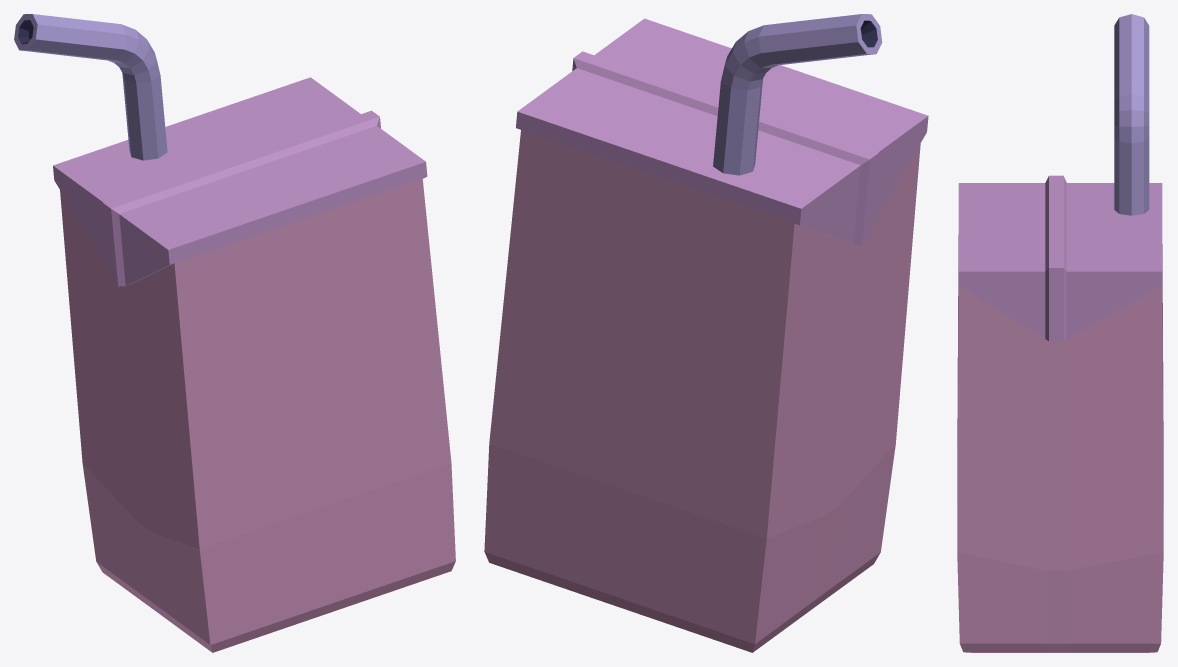
Rendered from FrootBox.Coconoot.fbx.
3 renders of one model, left to right at view 1: azimuth 30°, elevation 25°; view 2: azimuth 150°, elevation 25°; view 3: azimuth 270°, elevation 25°, orthographic. The views are drawn at different scales.
Visible parts, largest first — view 1: FrootBox.Coconoot; view 2: FrootBox.Coconoot; view 3: FrootBox.Coconoot.
Boxes of the visible parts, x1,y1,x2,y2 form: FrootBox.Coconoot: (14,14,455,652); FrootBox.Coconoot: (484,14,928,652); FrootBox.Coconoot: (957,14,1163,652).
Size of the model in its own units: 47.22 by 78.87 by 28.23.
